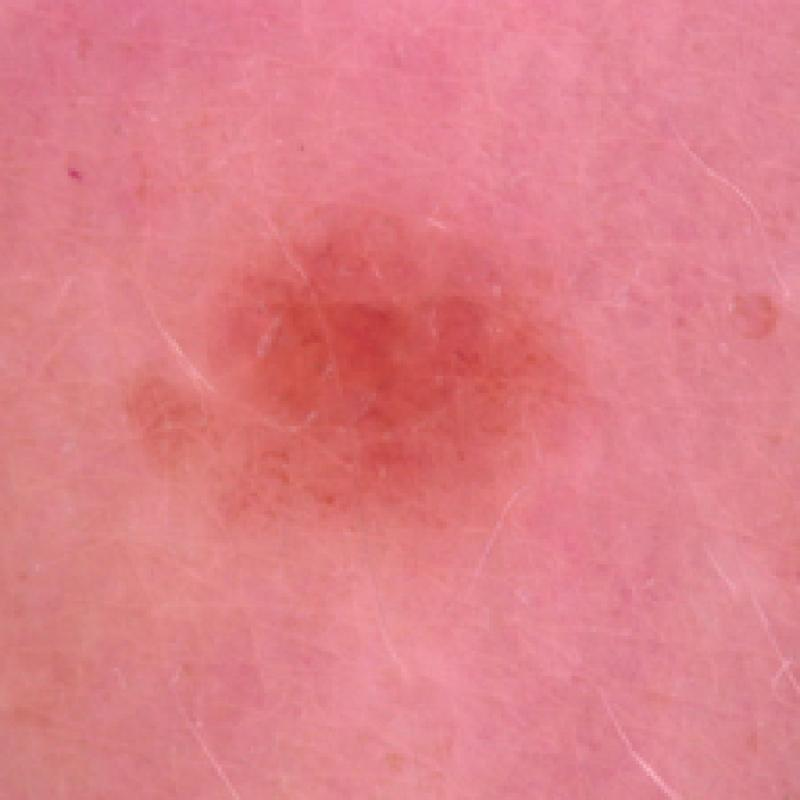benign: (110, 171, 618, 574)
